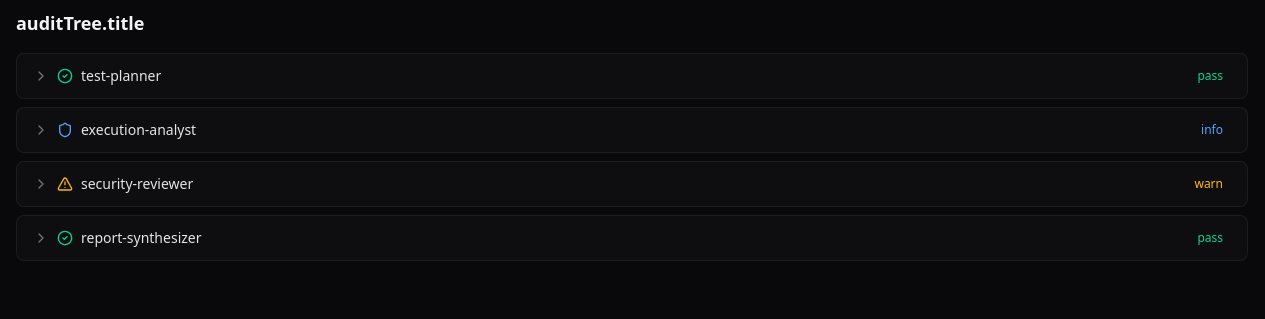
AuditTreeView › collapses node when clicked again
What coordinates should you click on to do the following:
click the text "test-planner"
I would click on:
 (121, 76)
Its box is [81,66,161,86].
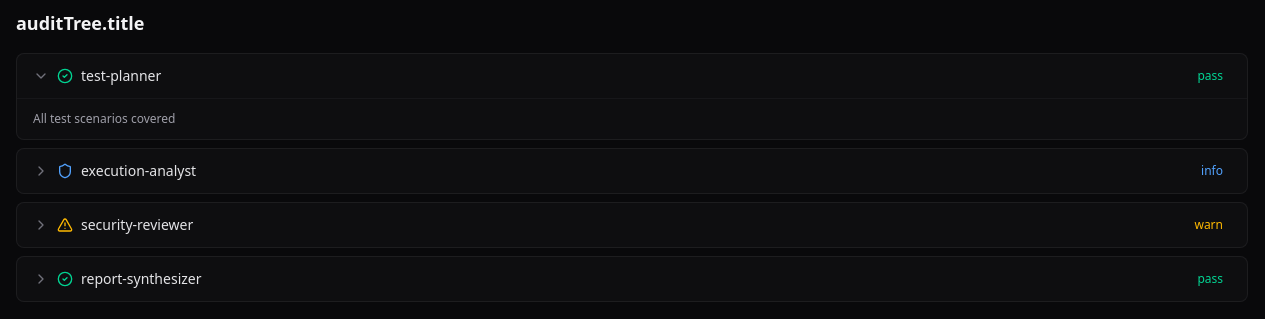
expect the text "All test scenarios covered" is shown: met, box [33,110,175,127]
What coordinates should you click on to do the following:
click the text "test-planner"
I would click on:
 (121, 76)
Its box is [81,66,161,86].
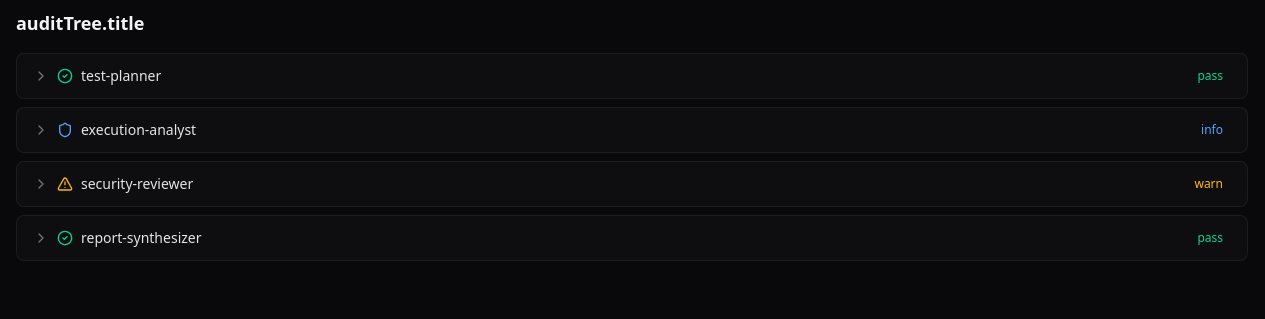
expect the text "All test scenarios covered" is gone: met
